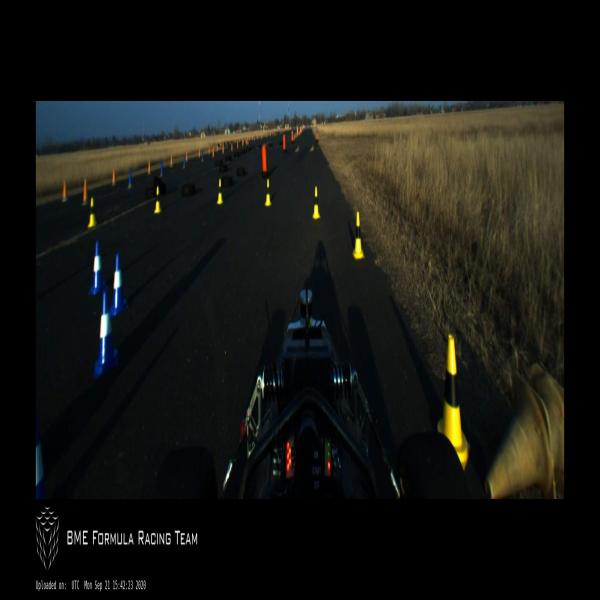blue_cone: (95, 290, 117, 379), (110, 250, 128, 318), (88, 240, 106, 294), (36, 418, 48, 499)
unknown_cone: (485, 374, 556, 498), (82, 180, 88, 206), (62, 180, 68, 203), (128, 168, 133, 189), (111, 168, 116, 186), (160, 162, 164, 176), (147, 160, 151, 174), (183, 155, 186, 169), (170, 154, 173, 167), (310, 144, 314, 152), (295, 145, 299, 153), (202, 150, 204, 162), (186, 151, 188, 162), (212, 147, 214, 157), (222, 144, 224, 154), (231, 142, 233, 152), (208, 146, 210, 155), (216, 144, 218, 152), (199, 149, 200, 159)
yellow_cone: (436, 332, 470, 473), (352, 212, 365, 260), (312, 186, 321, 220), (87, 196, 96, 228), (216, 177, 224, 205), (154, 186, 161, 215), (265, 179, 271, 207)
